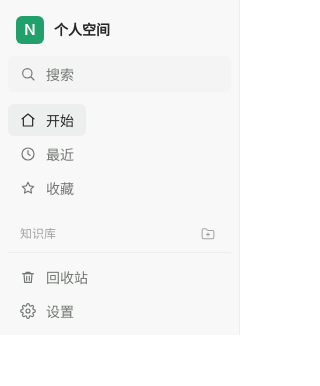
Test: GlobalSidebar（Desktop 能力，R006 阶段 2 / C2.1） › 已初始化目录：selectDirectory → openRecent 链路并入库列表
What coordinates should you click on to do the following:
click the button named "打开本地知识库"
I would click on:
 (208, 234)
Its box is left=197, top=223, right=219, bottom=245.
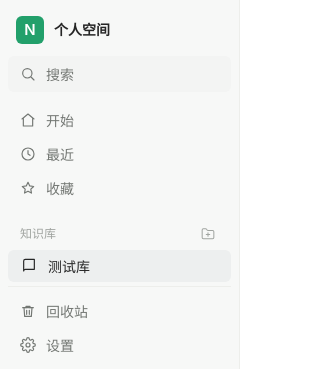
Expected: the button with aria-label "知识库「测试库」" is shown, left=8, top=250, right=231, bottom=282
